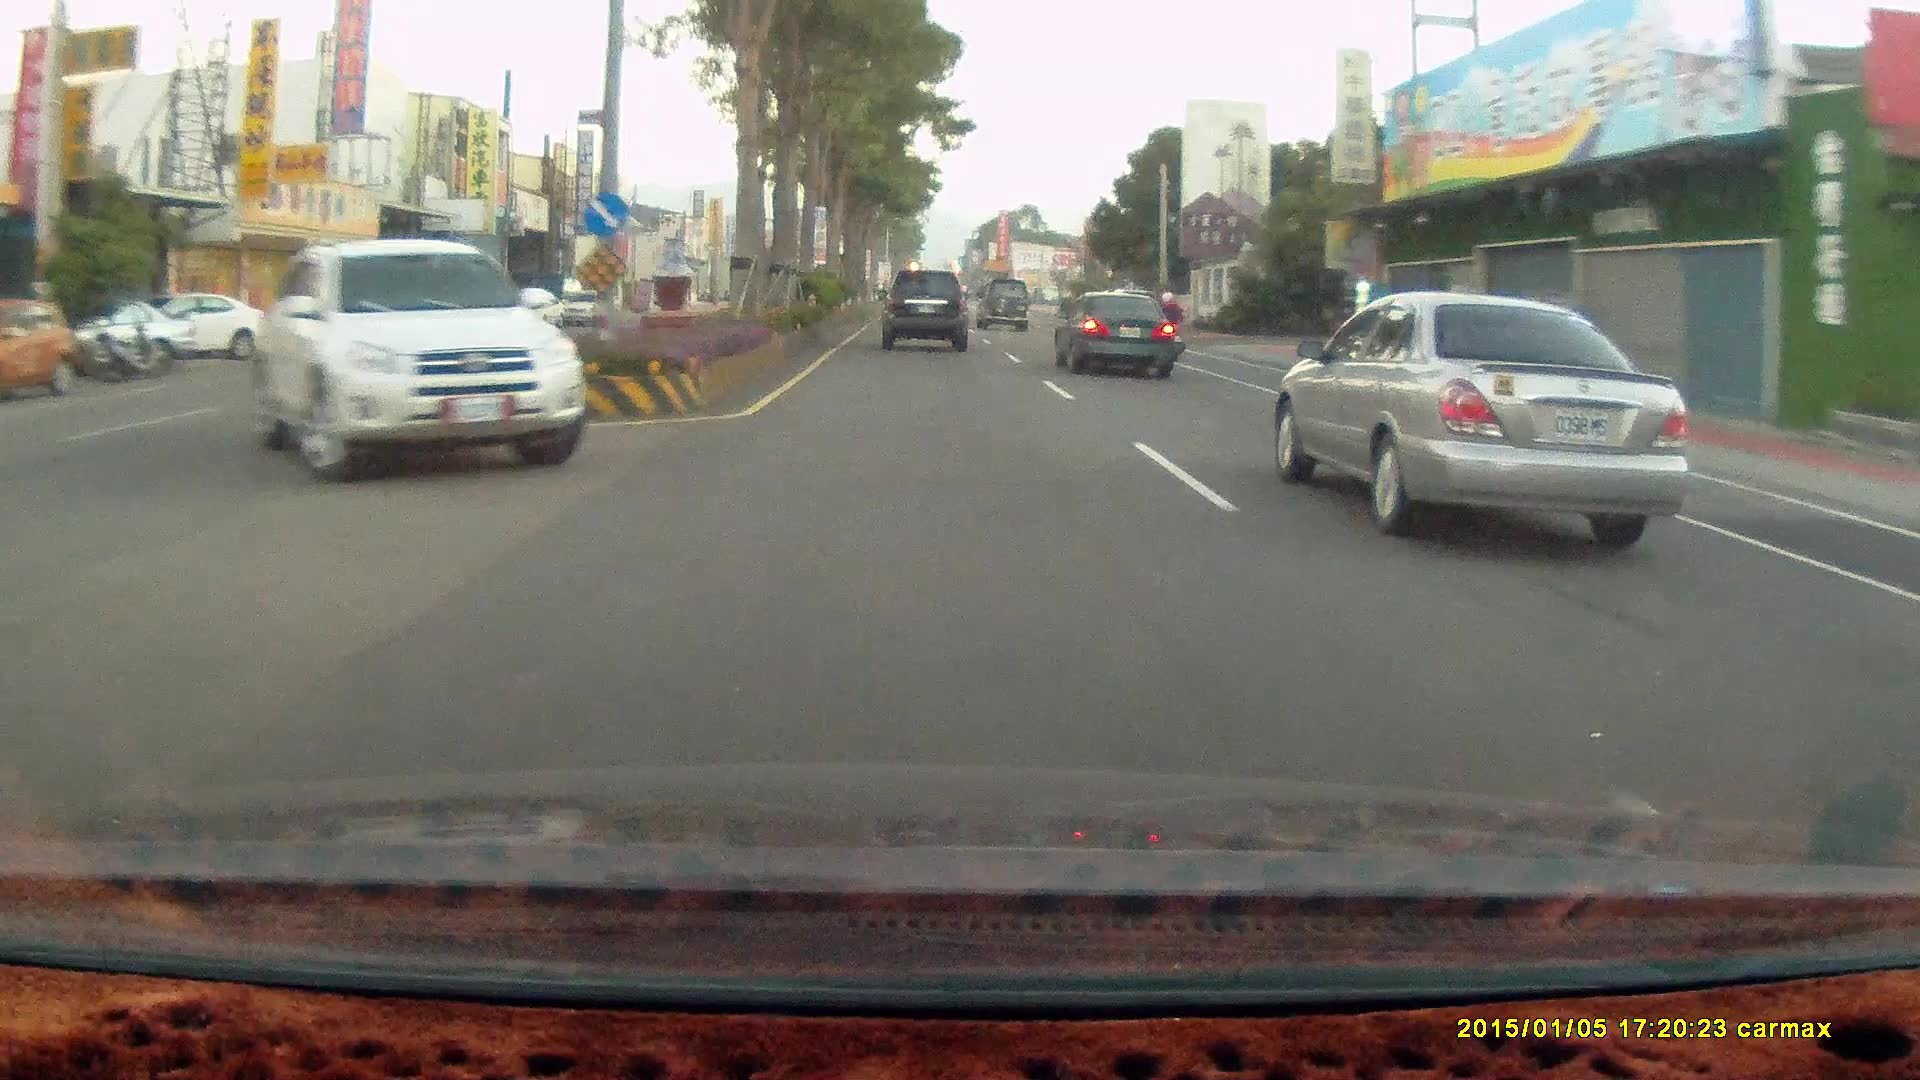rider: (1146, 287, 1186, 364)
vehicle: (1280, 287, 1695, 537), (242, 238, 597, 486), (246, 238, 585, 483), (1051, 288, 1175, 378), (1058, 299, 1183, 385), (113, 289, 270, 355), (134, 291, 274, 359), (0, 299, 83, 402), (1, 302, 85, 403), (882, 268, 975, 358), (879, 268, 968, 350), (977, 281, 1035, 340), (974, 275, 1030, 330)
